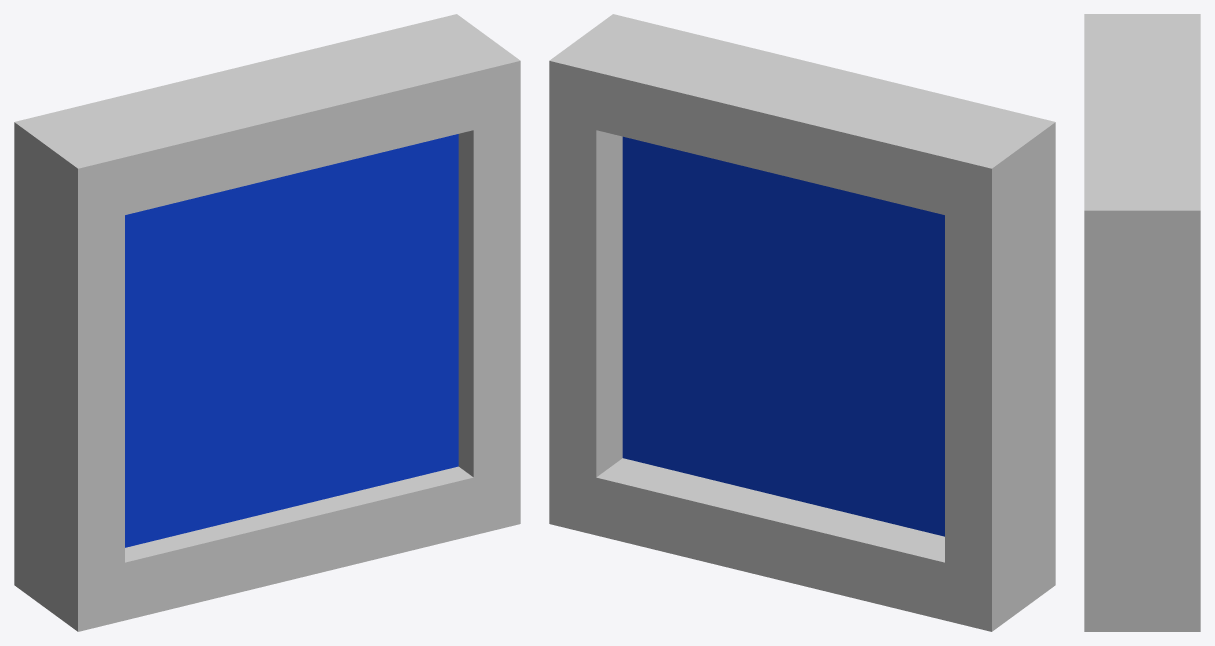
Rendered from Window 4x4x1 Solid.fbx.
3 renders of one model, left to right at view 1: azimuth 30°, elevation 25°; view 2: azimuth 150°, elevation 25°; view 3: azimuth 270°, elevation 25°, orthographic. The views are drawn at different scales.
Parts seen in each view (by area): view 1: Window Concrete 4x4x1, Glass; view 2: Window Concrete 4x4x1, Glass; view 3: Window Concrete 4x4x1.
Boxes of the visible parts, bbox=[...] form: Window Concrete 4x4x1: bbox=[14, 14, 520, 631]; Glass: bbox=[125, 134, 458, 547]; Window Concrete 4x4x1: bbox=[549, 14, 1055, 631]; Glass: bbox=[622, 136, 944, 536]; Window Concrete 4x4x1: bbox=[1084, 14, 1200, 631].
Bounding box in the file's own units: 4 × 4 × 1.
